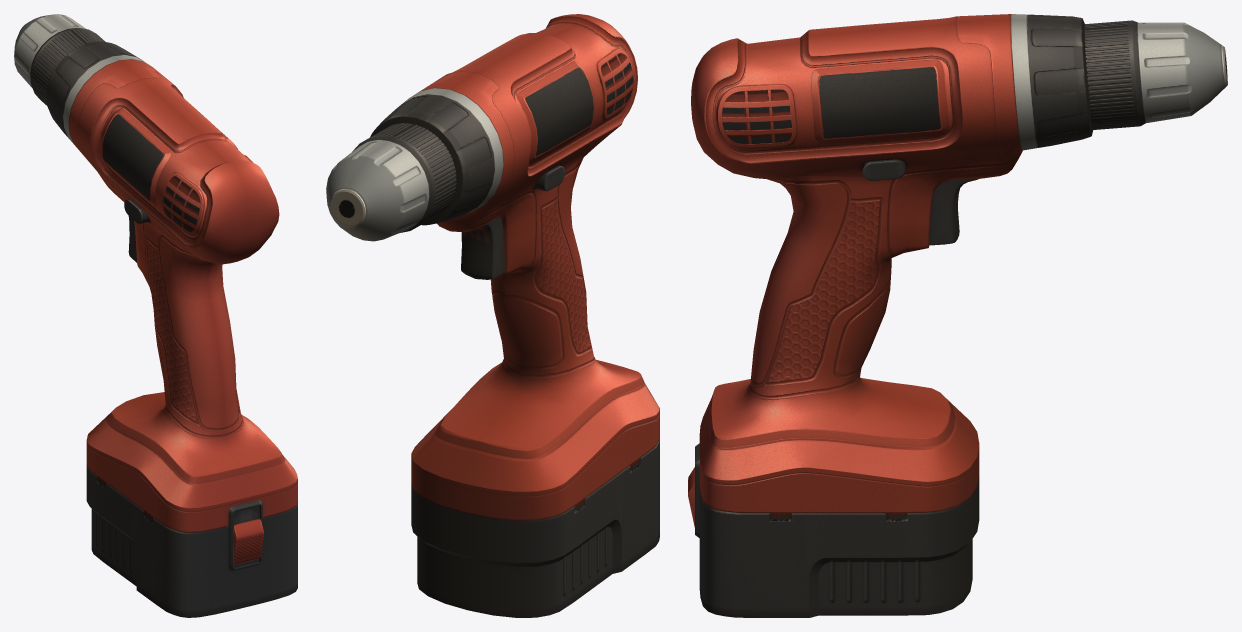
File: drill.dae
The picture shows the model from 3 angles, left to right: view 1: azimuth 30°, elevation 25°; view 2: azimuth 150°, elevation 25°; view 3: azimuth 270°, elevation 25°; orthographic projection. The views are drawn at different scales.
Parts seen in each view (by area): view 1: Drill; view 2: Drill; view 3: Drill.
Part boxes in pixels (x1,y1,x2,y2): Drill: (14, 14, 297, 617); Drill: (326, 14, 659, 617); Drill: (688, 14, 1227, 617).
Bounding box in the file's own units: 7.56 × 22.29 × 25.49.
1 material, 1 textured.
